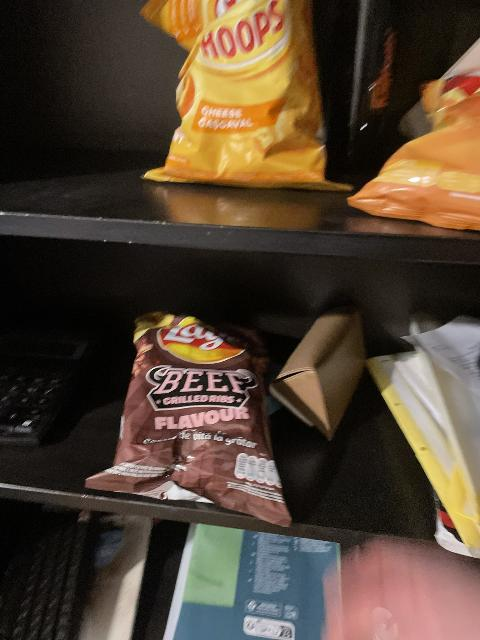Chio Cascaval 125g: (343, 22, 476, 232)
Chio Hula Hoops Cheese 70g: (135, 3, 344, 189)
Lays Beef Grilled Ribs 125g: (83, 314, 296, 530)
